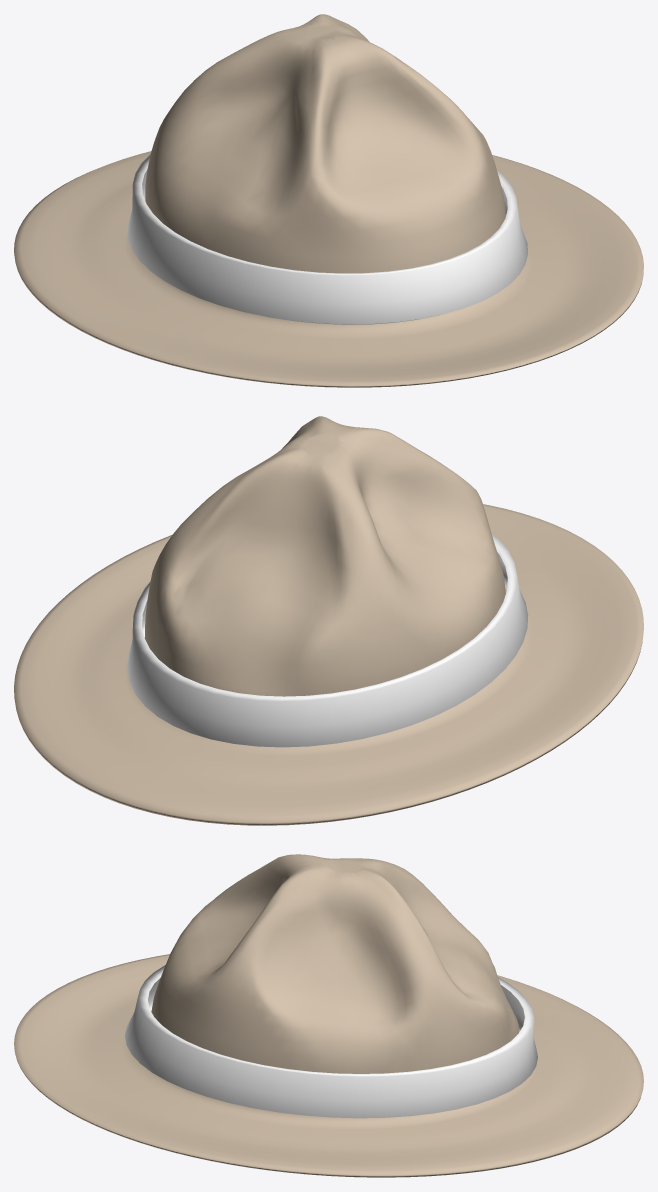
Rendered from mountie_hat.fbx.
The picture shows the model from 3 angles, top to bottom: view 1: azimuth 30°, elevation 25°; view 2: azimuth 150°, elevation 25°; view 3: azimuth 270°, elevation 25°; orthographic projection. The views are drawn at different scales.
Parts seen in each view (by area): view 1: mountie_hat; view 2: mountie_hat; view 3: mountie_hat.
Boxes of the visible parts, x1,y1,x2,y2 form: mountie_hat: (14,14,643,387); mountie_hat: (14,416,643,825); mountie_hat: (14,854,643,1177).
Size of the model in its own units: 34 by 15.65 by 40.01.
